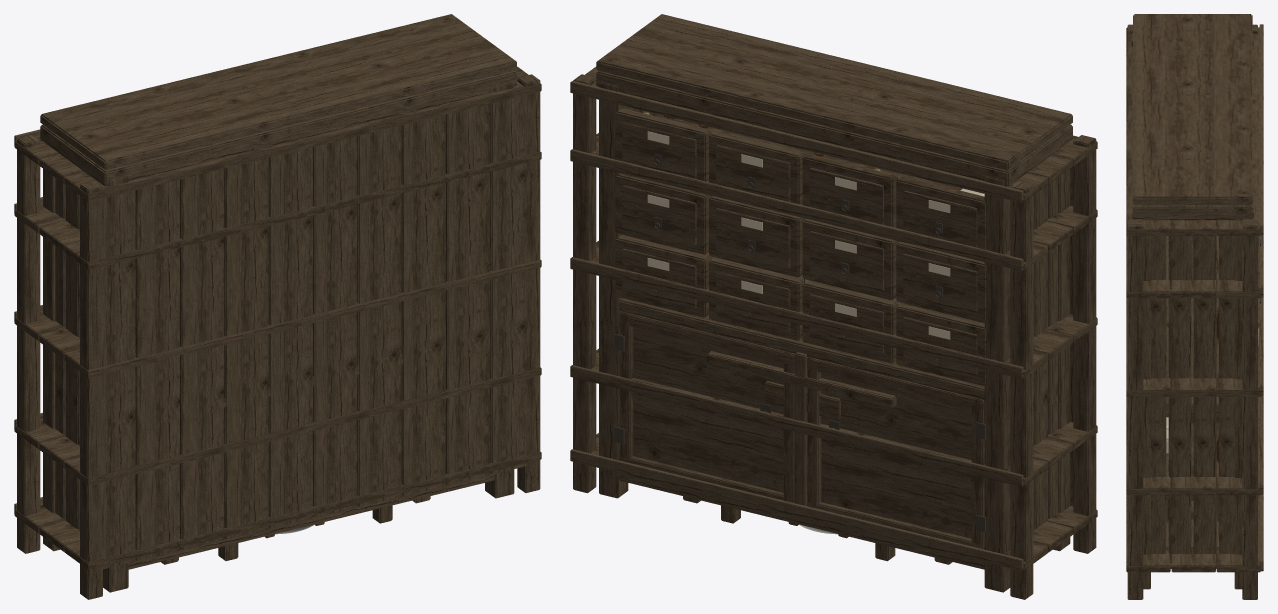
Rendered from Model_WardProps.glb.
3 renders of one model, left to right at view 1: azimuth 30°, elevation 25°; view 2: azimuth 150°, elevation 25°; view 3: azimuth 270°, elevation 25°, orthographic. The views are drawn at different scales.
Parts seen in each view (by area): view 1: WardStockedShelf, WardMedicineCabinet, WardTreatmentTable; view 2: WardMedicineCabinet, WardStockedShelf, WardTreatmentTable; view 3: WardMedicineCabinet, WardStockedShelf, WardWoodBench.
Boxes of the visible parts, <box> form: WardStockedShelf: <box>14,66,541,599</box>; WardMedicineCabinet: <box>40,14,516,592</box>; WardTreatmentTable: <box>218,354,403,560</box>; WardMedicineCabinet: <box>596,14,1072,592</box>; WardStockedShelf: <box>570,66,1097,599</box>; WardTreatmentTable: <box>707,351,896,561</box>; WardMedicineCabinet: <box>1131,14,1260,589</box>; WardStockedShelf: <box>1126,24,1263,599</box>; WardWoodBench: <box>1166,495,1218,521</box>.
Size of the model in its own units: 2.2 by 2 by 0.632.
Materials: 11 (1 with a texture image).
